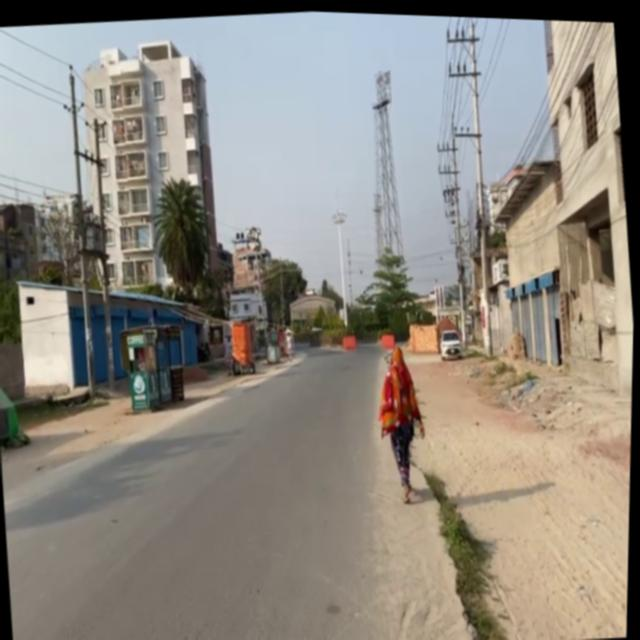Construction-barrier: (405, 440, 525, 640)
Fallen-tree: (225, 347, 257, 374), (442, 340, 464, 357)
Garbage: (117, 316, 191, 413), (228, 316, 259, 373)
Garbage-bin: (371, 338, 434, 502), (222, 333, 236, 374)
Pothole: (382, 316, 635, 640)
Traffic-cone: (439, 324, 464, 356)
